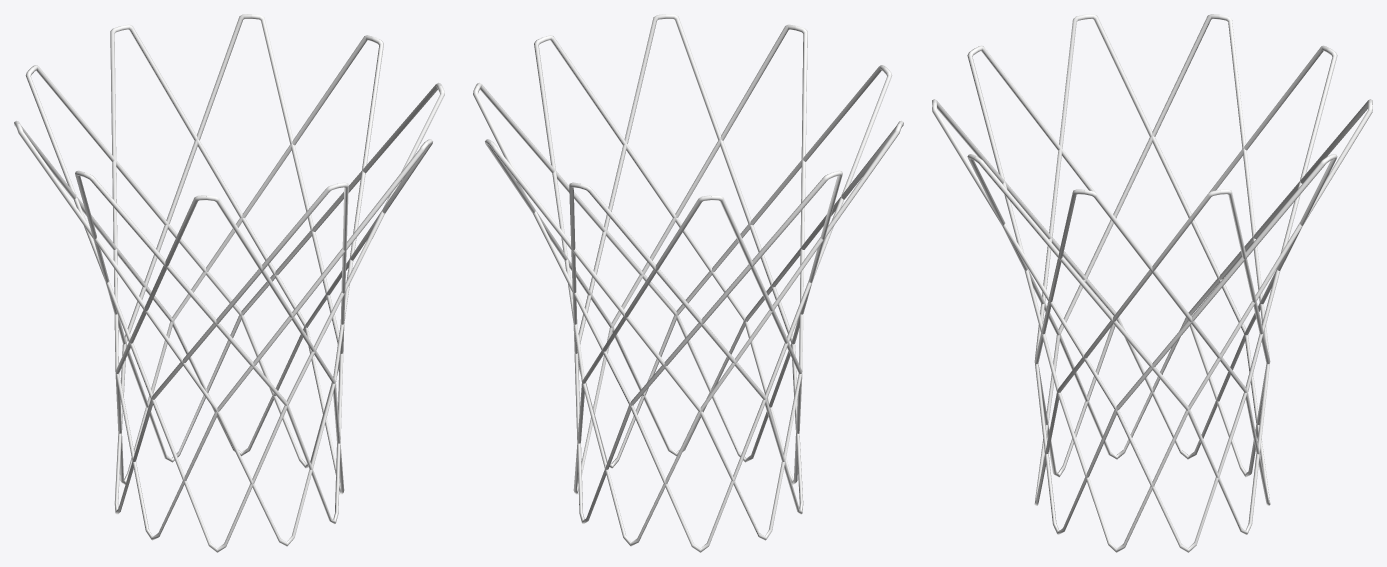
File: сетка.fbx
3 views of the same model, side by side, from view 1: azimuth 30°, elevation 25°; view 2: azimuth 150°, elevation 25°; view 3: azimuth 270°, elevation 25° (orthographic).
Parts seen in each view (by area): view 1: Sphere.001; view 2: Sphere.001; view 3: Sphere.001.
Boxes of the visible parts, x1,y1,x2,y2 form: Sphere.001: (14, 14, 444, 552); Sphere.001: (473, 14, 903, 552); Sphere.001: (932, 14, 1372, 552).
Size of the model in its own units: 16.37 by 17.13 by 16.94.
Materials: 1 (1 with a texture image).
